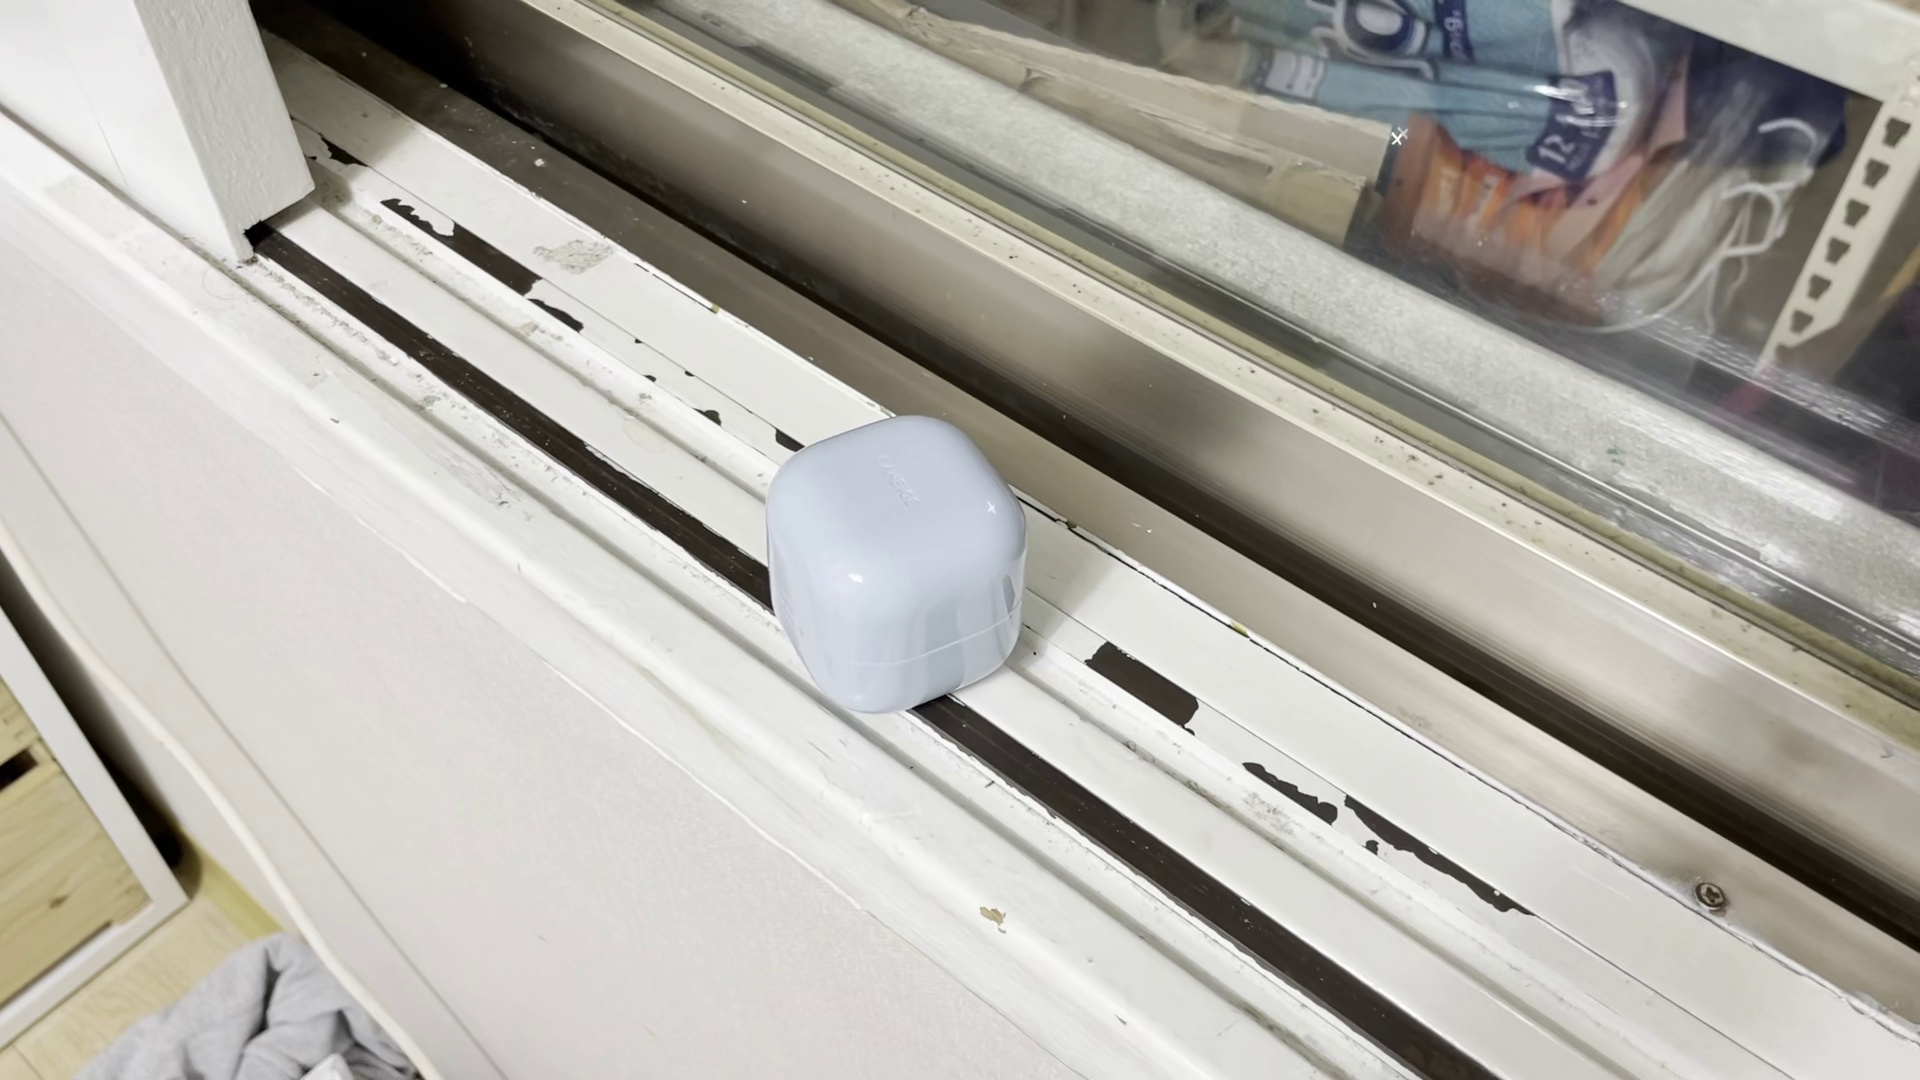cream: (765, 419, 1029, 717)
